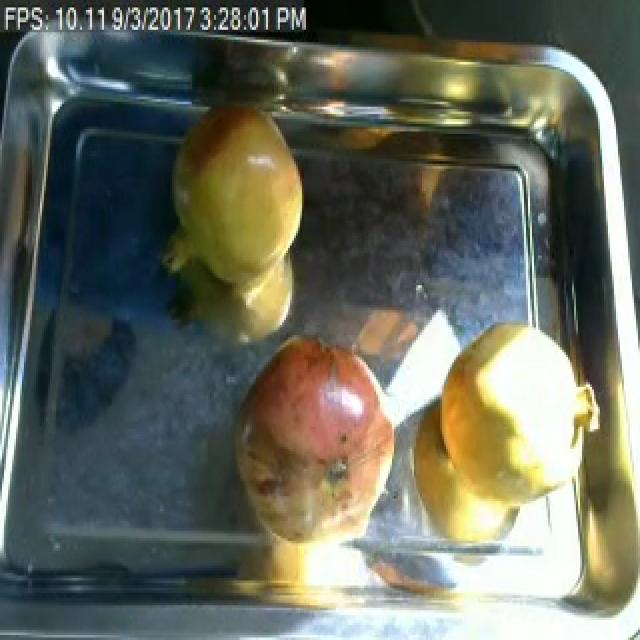fruit: (222, 320, 412, 566), (426, 305, 606, 531), (158, 89, 314, 298)
